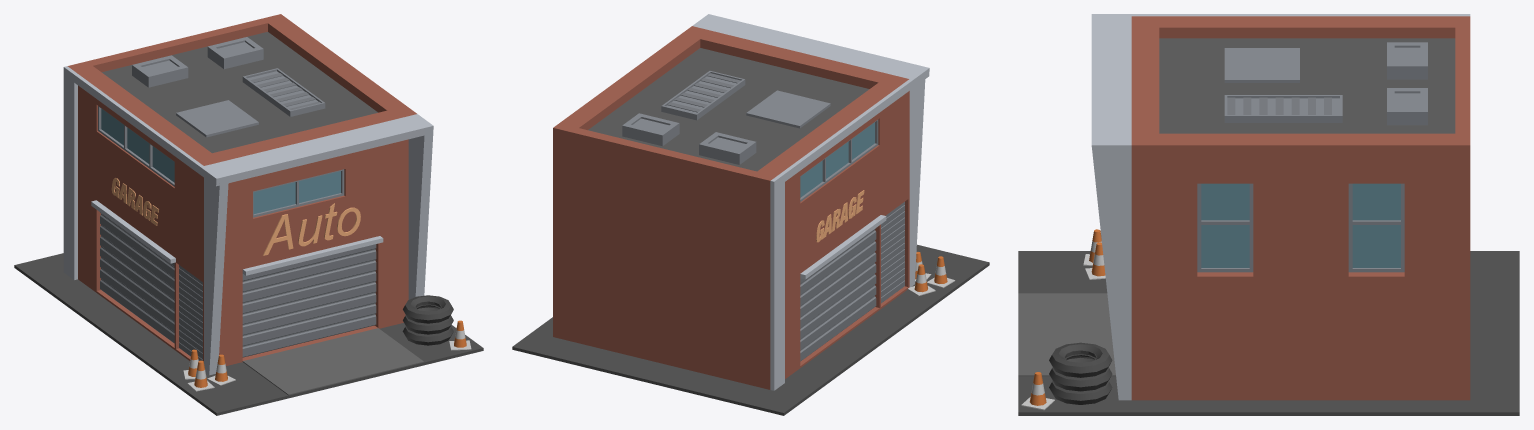
File: autoshop.glb
The picture shows the model from 3 angles, left to right: view 1: azimuth 30°, elevation 25°; view 2: azimuth 150°, elevation 25°; view 3: azimuth 270°, elevation 25°; orthographic projection. The views are drawn at different scales.
Visible parts, largest first — view 1: Box003; view 2: Box003; view 3: Box003.
Part boxes in pixels (x1=…): Box003: x1=14, y1=14, x2=483, y2=415; Box003: x1=512, y1=14, x2=989, y2=415; Box003: x1=1018, y1=14, x2=1519, y2=415.
Size of the model in its own units: 2.52 by 1.9 by 3.31.
